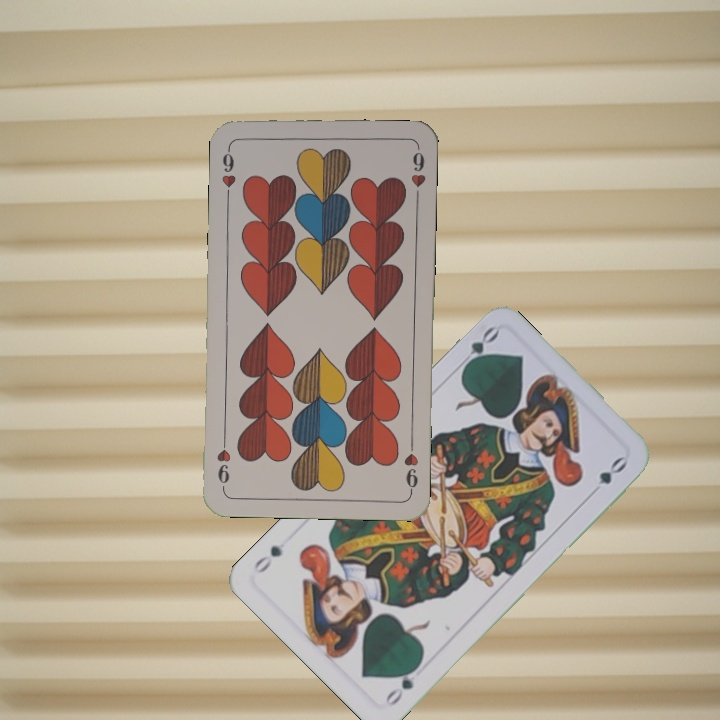GO: (453, 322, 501, 374), (381, 659, 423, 710)
H9: (400, 436, 421, 495), (218, 141, 239, 200)
